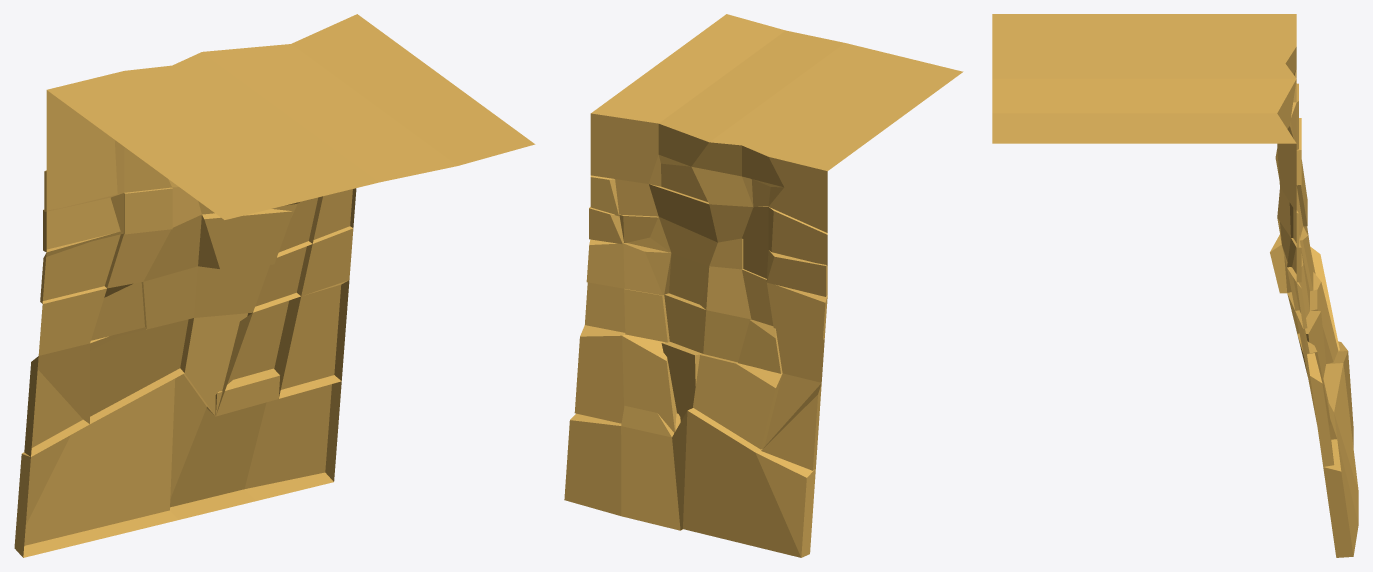
Rendered from cliff.fbx.
3 views of the same model, side by side, from view 1: azimuth 30°, elevation 25°; view 2: azimuth 150°, elevation 25°; view 3: azimuth 270°, elevation 25° (orthographic). The views are drawn at different scales.
Visible parts, largest first — view 1: Plane; view 2: Plane; view 3: Plane.
Part boxes in pixels (left/top/right/bottom): Plane: left=14, top=14, right=535, bottom=557; Plane: left=564, top=14, right=963, bottom=557; Plane: left=992, top=14, right=1358, bottom=557.
Size of the model in its own units: 605 by 895 by 717.
